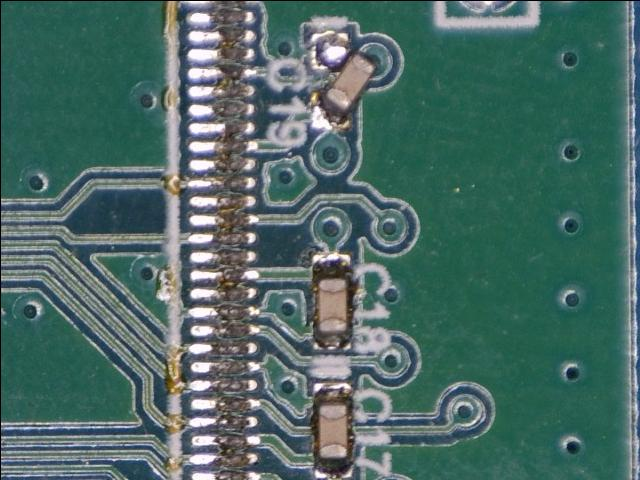Incorrect_installation: (311, 33, 377, 130)
